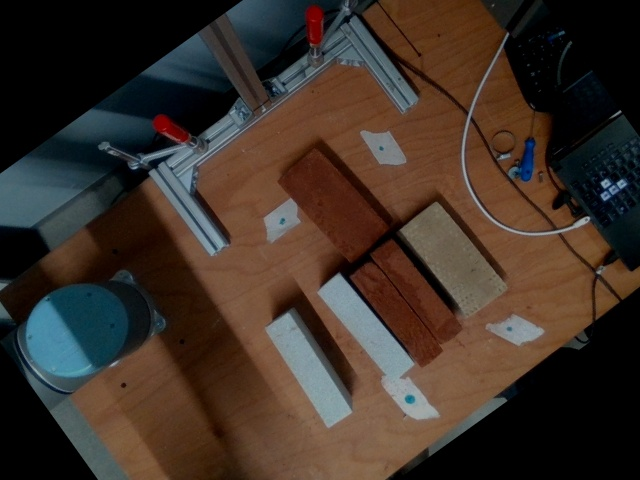brick: (278, 148, 387, 262), (400, 202, 506, 317)
brick-side: (318, 273, 414, 381), (372, 239, 466, 344), (265, 314, 353, 426), (352, 260, 445, 365)
